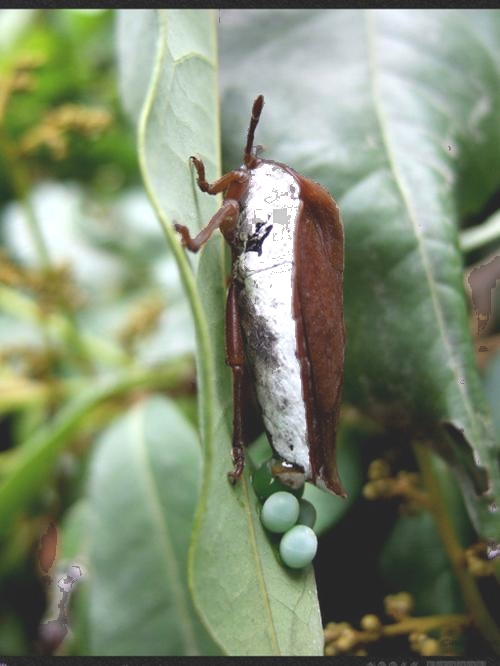Stink_Bug: (191, 112, 352, 570)
